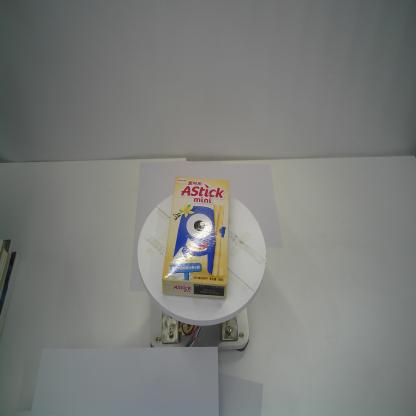Dessert: (161, 174, 231, 300)
